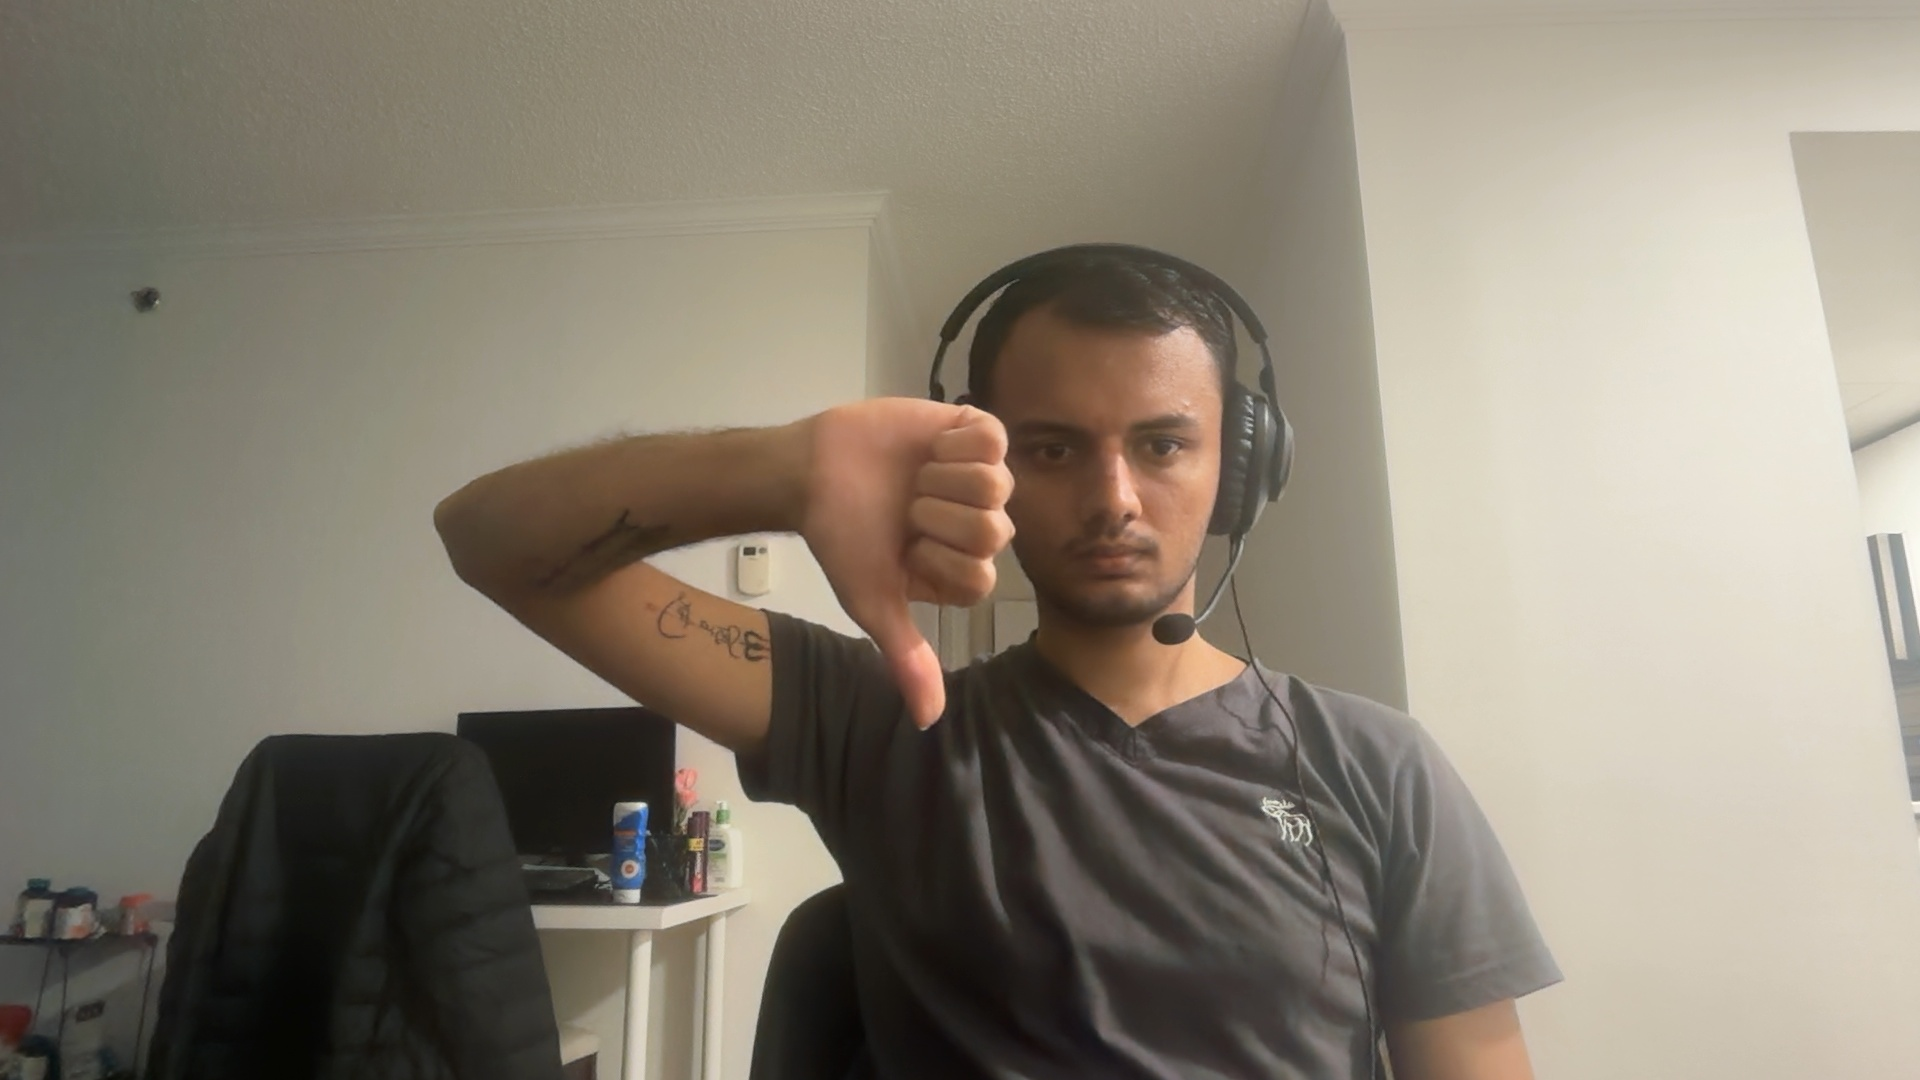thumbsdown: (807, 394, 1019, 731)
